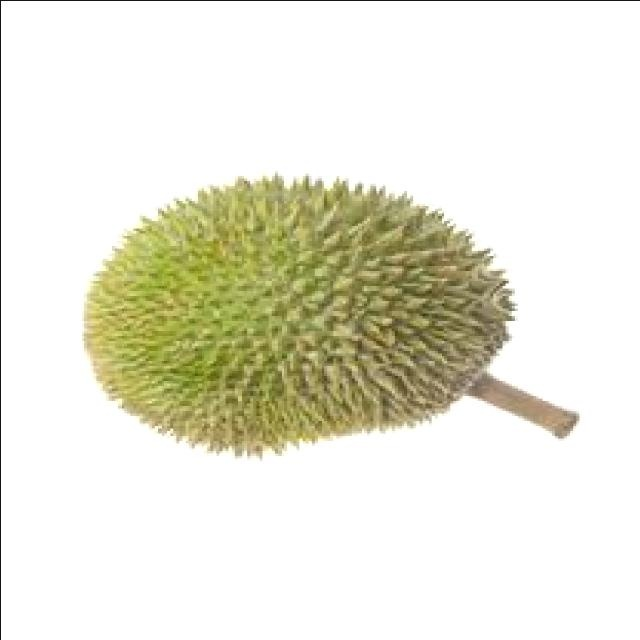agrume: (93, 153, 539, 485)
